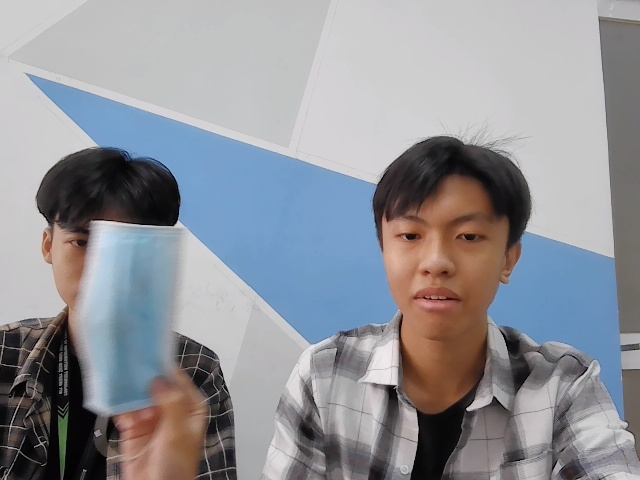human: (370, 137, 536, 343)
mask: (77, 214, 192, 421)
